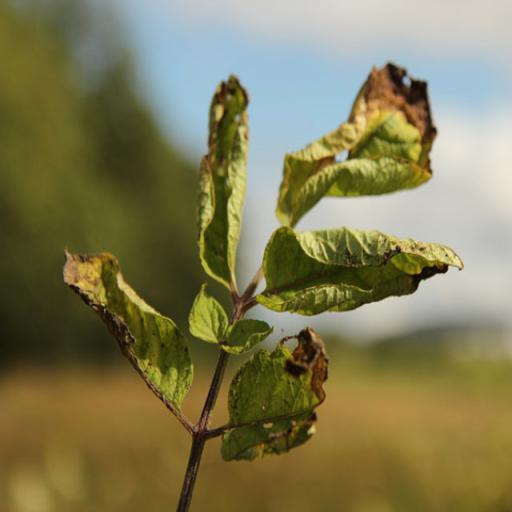disease_tomato: (279, 54, 441, 222), (60, 242, 194, 412), (257, 222, 467, 324), (215, 330, 335, 466), (190, 72, 254, 284)
